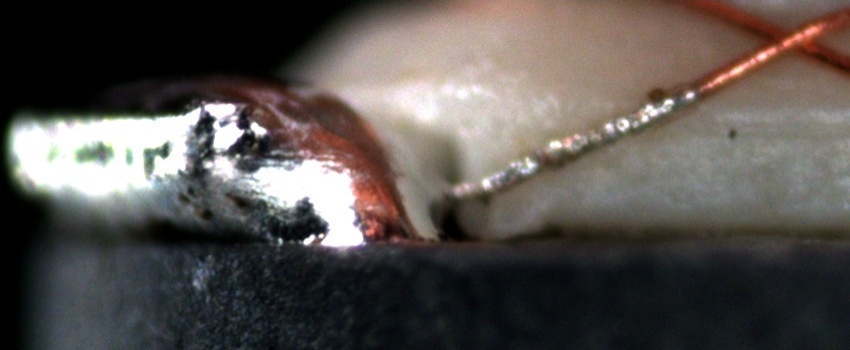CL: (743, 9, 833, 64)
DL: (639, 93, 850, 157)
TS: (444, 84, 699, 204)
TTCW: (437, 54, 755, 208)
